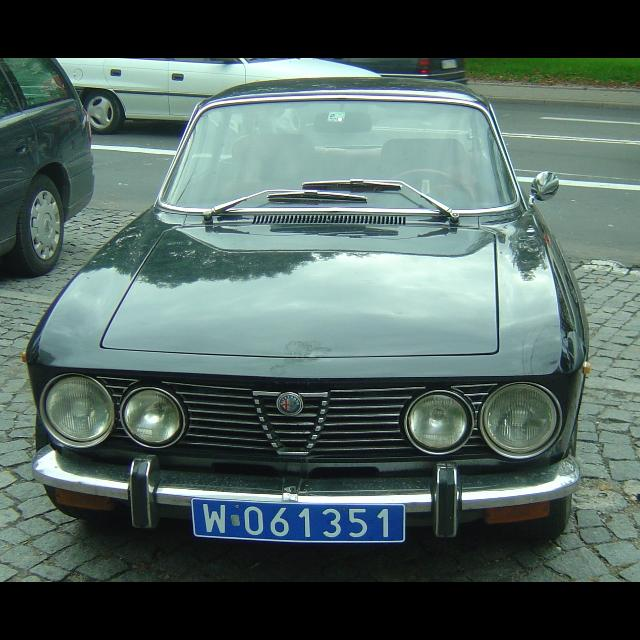pl_license_plate: (192, 500, 404, 542)
